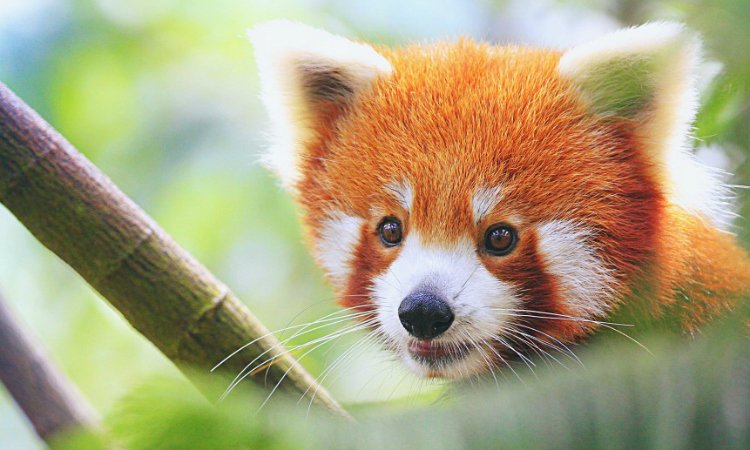red_panda: (239, 21, 750, 407)
